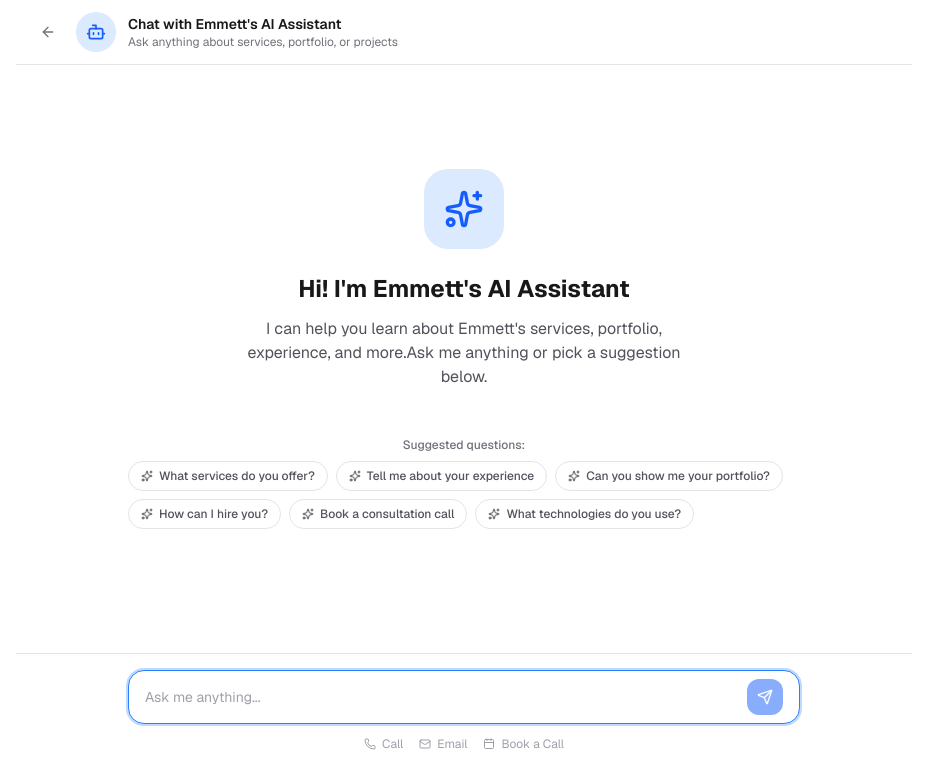
Test: FullPageChat › handles streaming response
Type "hello" into the field with placeholder "Ask me anything...".
click(442, 697); type("hello")  # box [145, 679, 739, 715]
Then press Enter
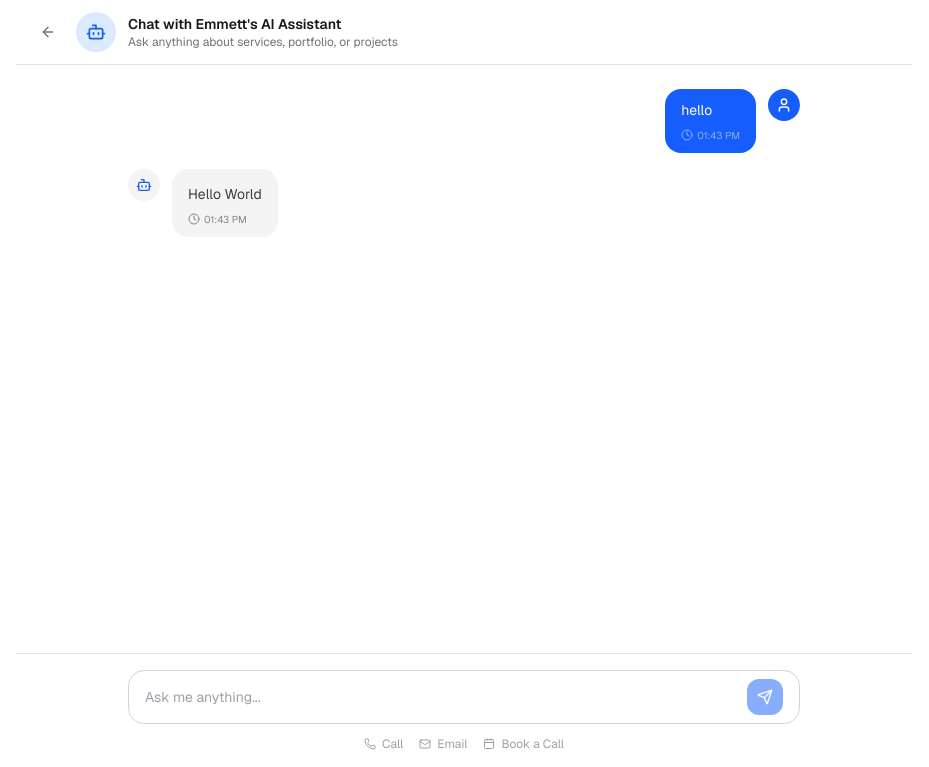
Now the text "Hello World" is shown, box [188, 183, 262, 206]
